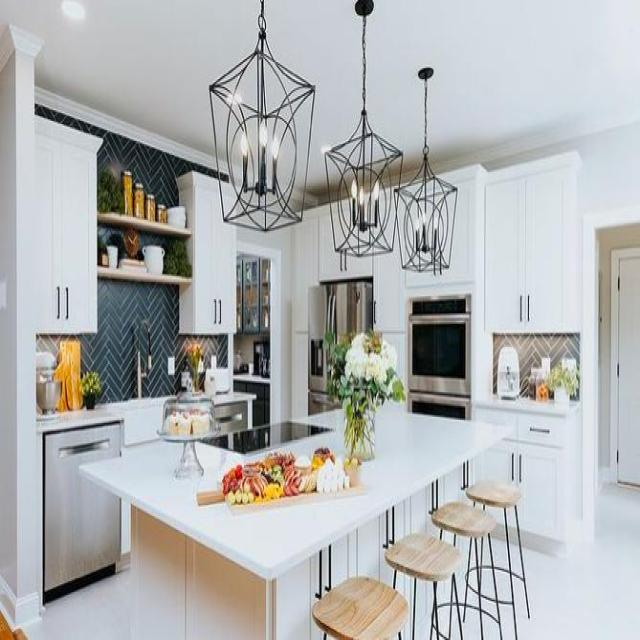dishwasher: (41, 418, 122, 592)
